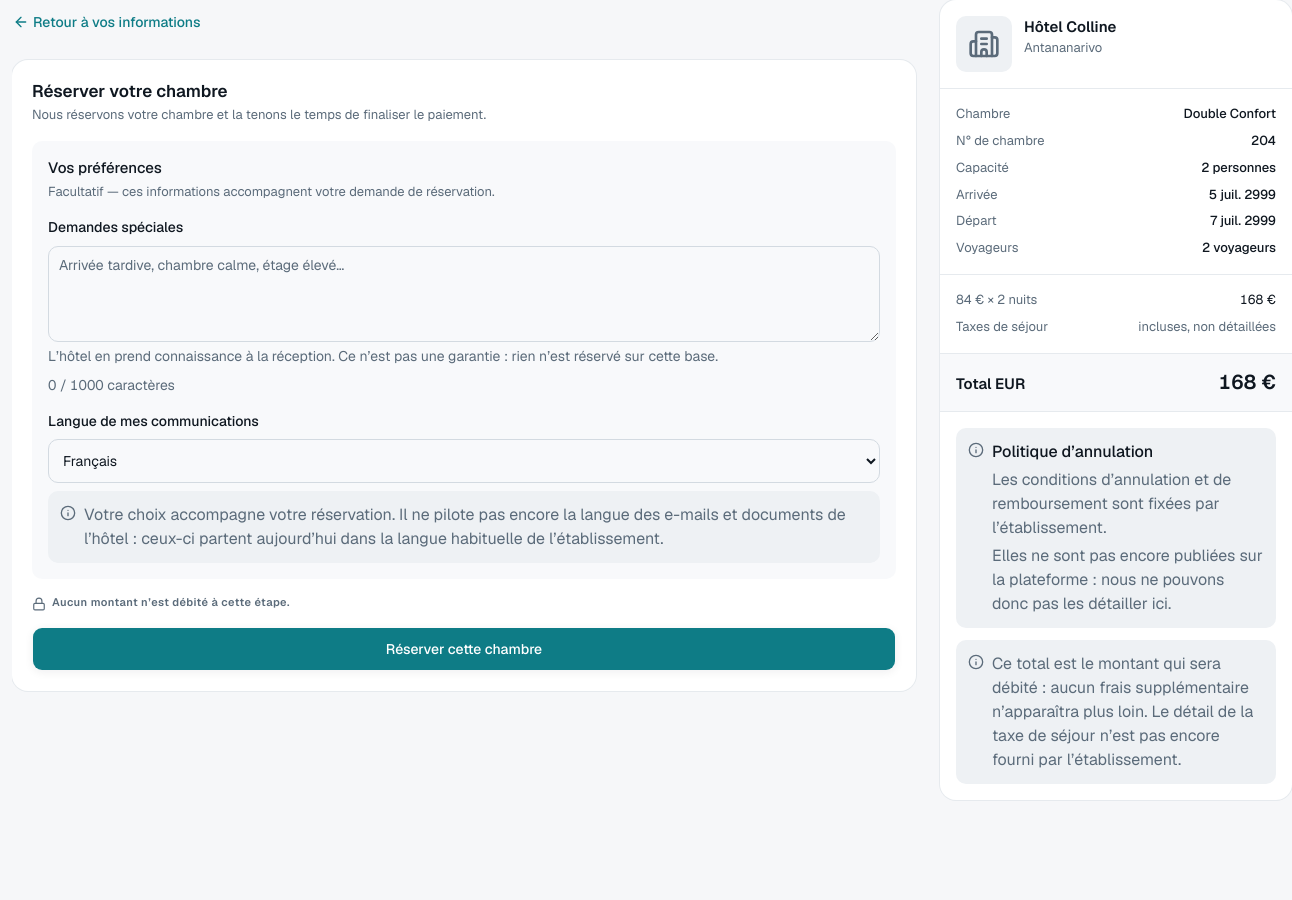
Test: BookingPayment — création explicite (AC-10) › affiche le code de réservation et l'échéance du hold après création
Click the button with test id "payment-create-cta": (464, 649) [32,627,896,671]
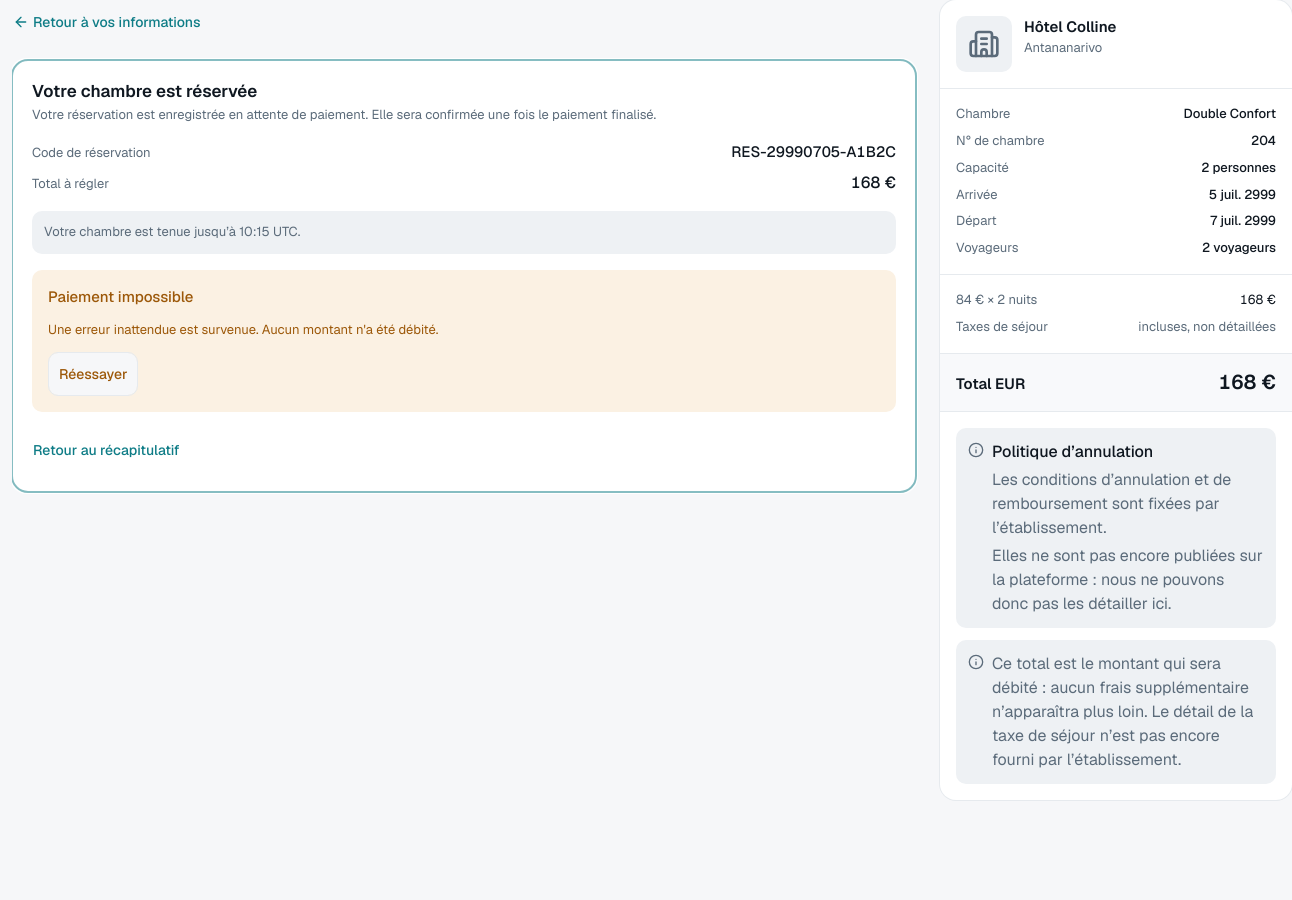
Expected: the text with test id "payment-reservation-code" reads "RES-29990705-A1B2C", [731,142,896,161]
Expected: the text "Votre chambre est tenue jusqu’à 10:15 UTC." is shown, [32,211,896,254]
